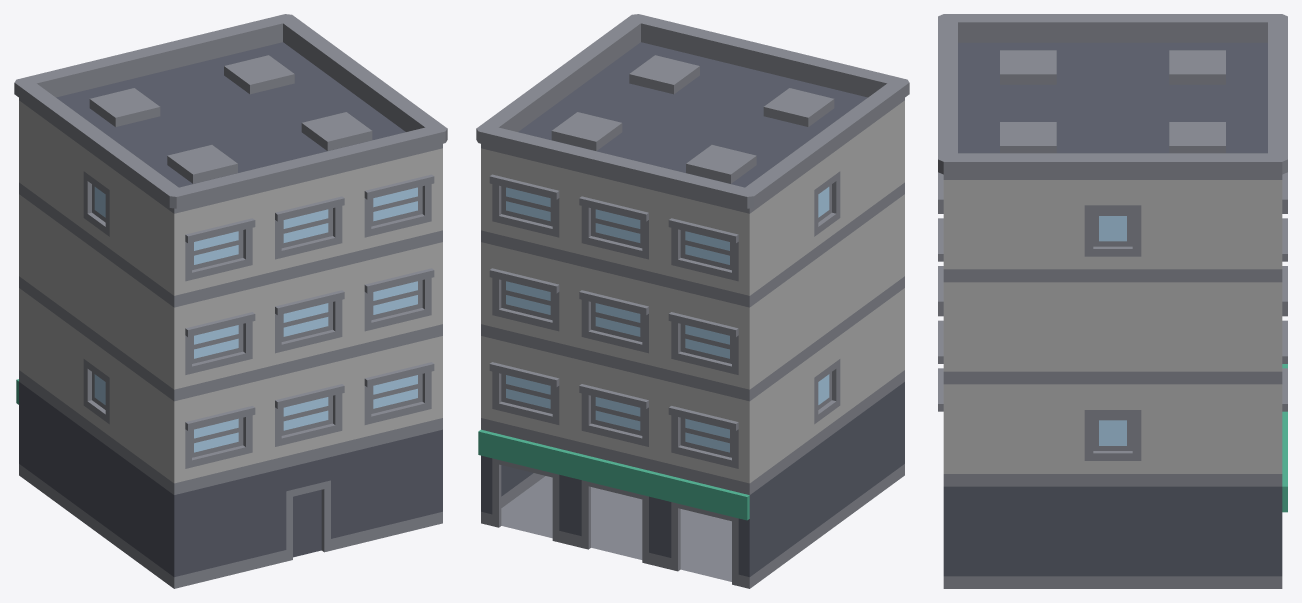
File: Shop.glb
3 views of the same model, side by side, from view 1: azimuth 30°, elevation 25°; view 2: azimuth 150°, elevation 25°; view 3: azimuth 270°, elevation 25° (orthographic). The views are drawn at different scales.
Visible parts, largest first — view 1: large_buildingD; view 2: large_buildingD; view 3: large_buildingD.
Boxes of the visible parts, <box> form: large_buildingD: <box>14,14,447,588</box>; large_buildingD: <box>476,14,909,588</box>; large_buildingD: <box>938,14,1287,588</box>.
Size of the model in its own units: 1.24 by 1.68 by 1.24.
